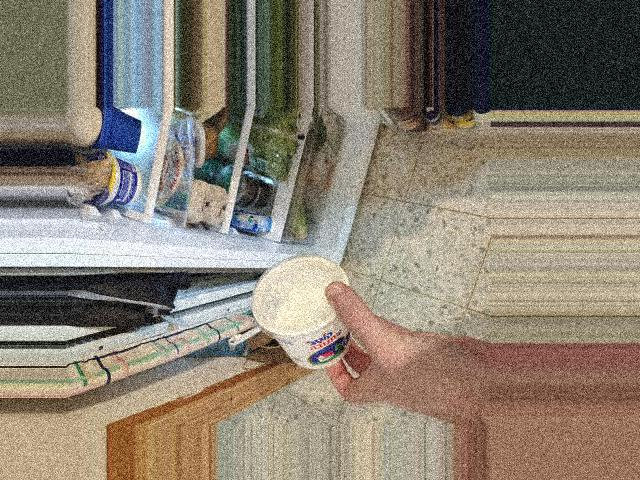cotage: (250, 255, 360, 374)
